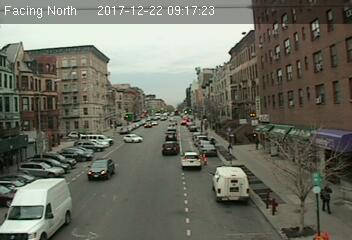car: (87, 158, 115, 180), (181, 151, 202, 168), (161, 141, 179, 155), (199, 145, 217, 154)
pedestrian: (320, 185, 334, 216)
truck: (211, 164, 249, 203)
